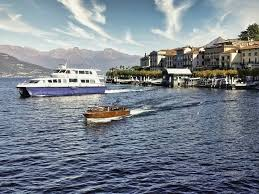boat: (17, 59, 108, 99), (83, 102, 133, 122)
